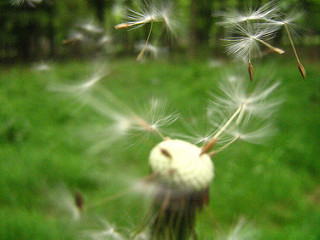dandelion: (52, 3, 290, 240)
